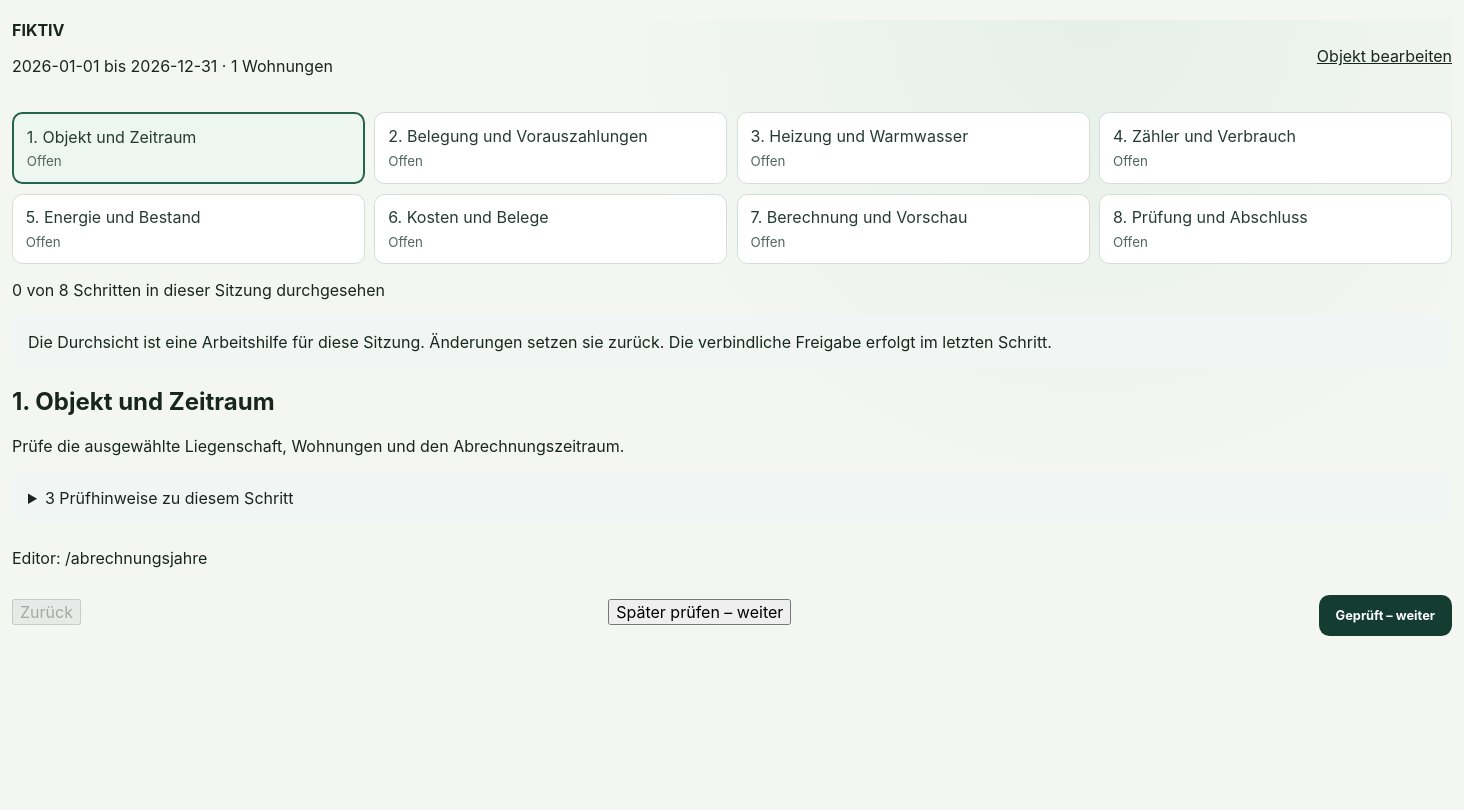
BillingJourney › führt durch acht Schritte und öffnet die passenden Eingaben
Expected: the heading "1. Objekt und Zeitraum" is shown, [12,388,275,416]
Click the button "Geprüft – weiter".
click(1385, 616)  # box [1319,595,1452,636]
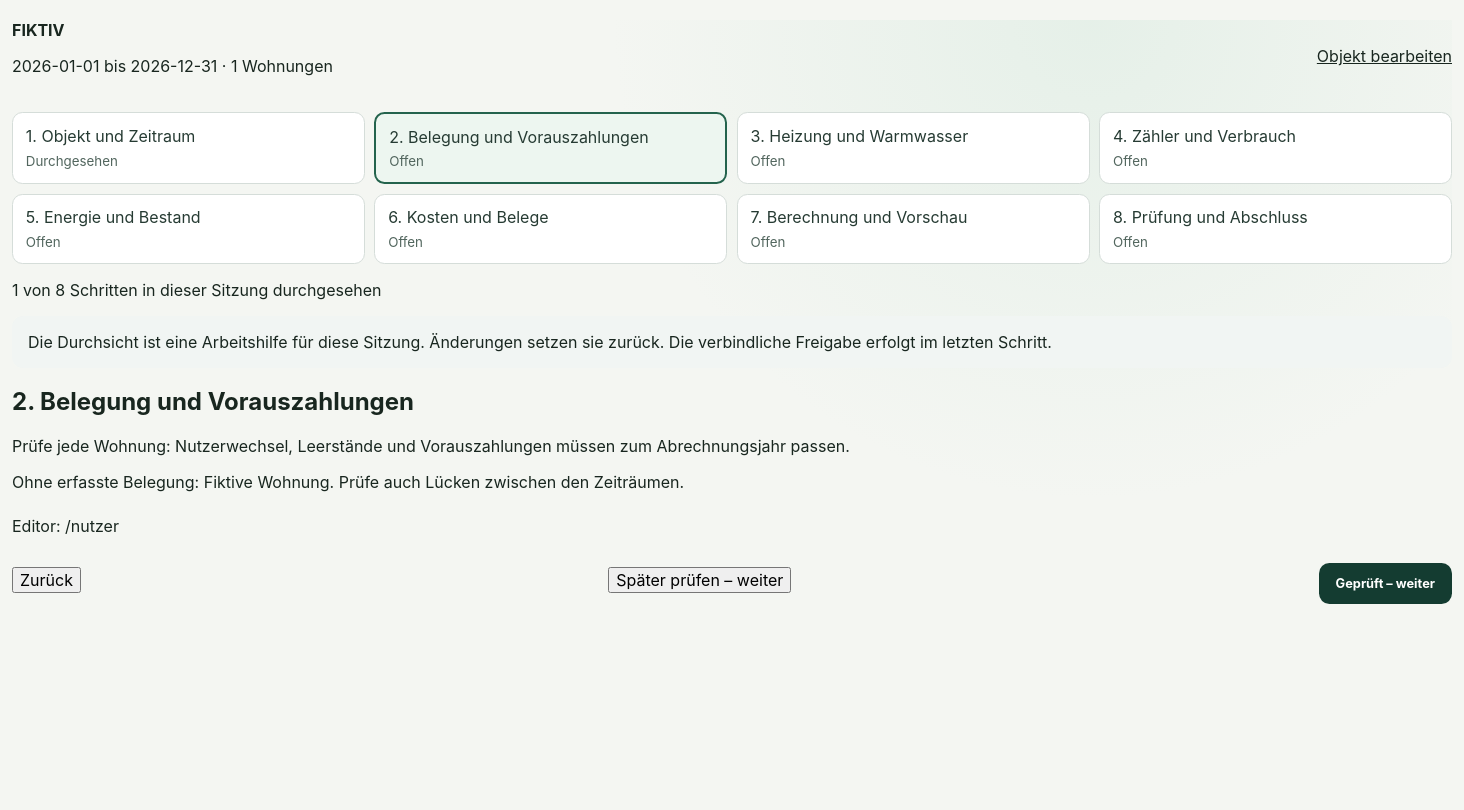
Expected: the text "Editor: /nutzer" is shown, [12,516,119,536]
Expected: the text "1 von 8 Schritten in dieser Sitzung durchgesehen" is shown, [12,280,382,300]
Click the button "4. Zähler und Verbrauch Offen".
click(1276, 148)  # box [1099,112,1452,184]
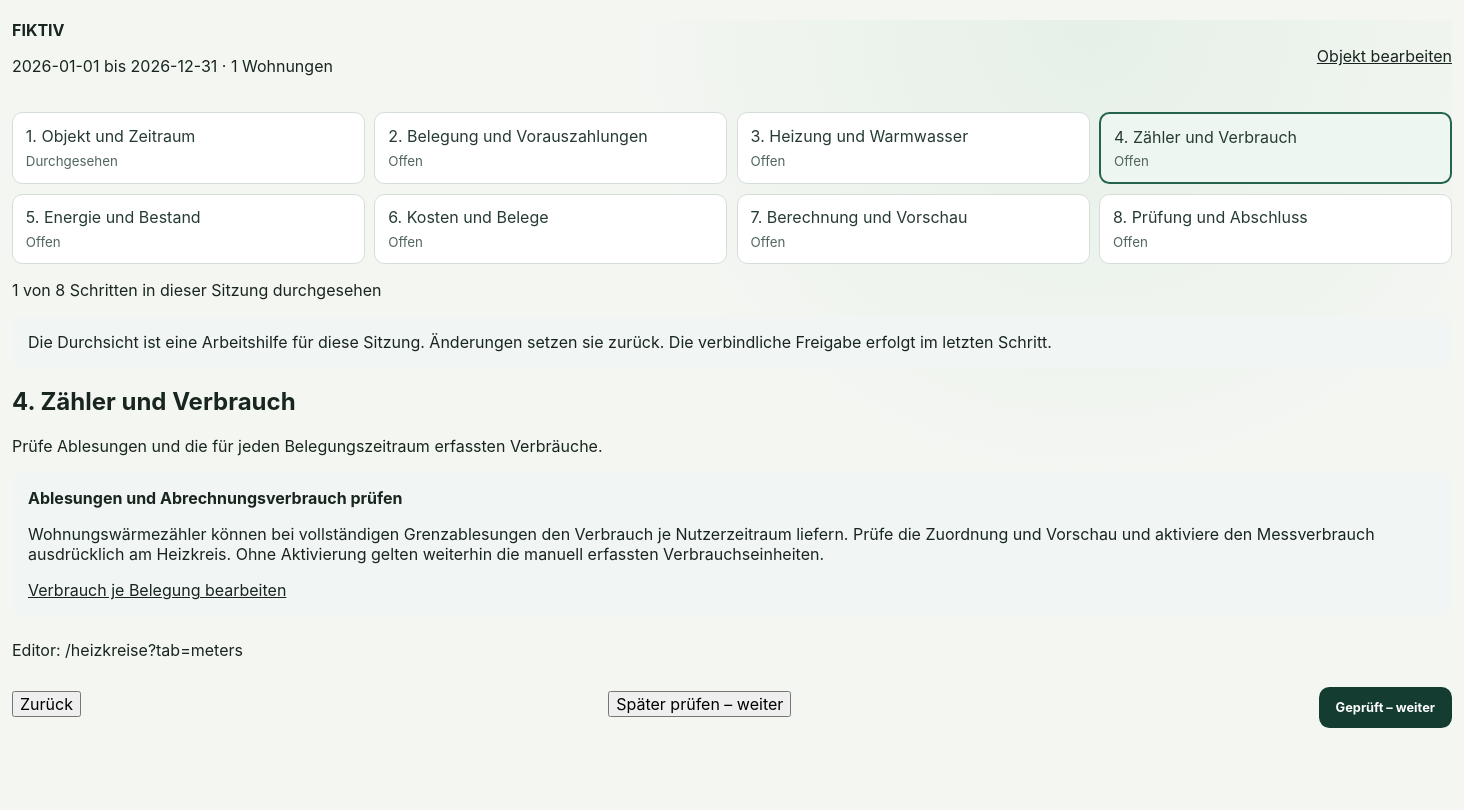
Expected: the text "Editor: /heizkreise?tab=meters" is shown, [12,640,243,660]
Click the button "5. Energie und Bestand Offen".
click(188, 229)  # box [12,194,365,264]
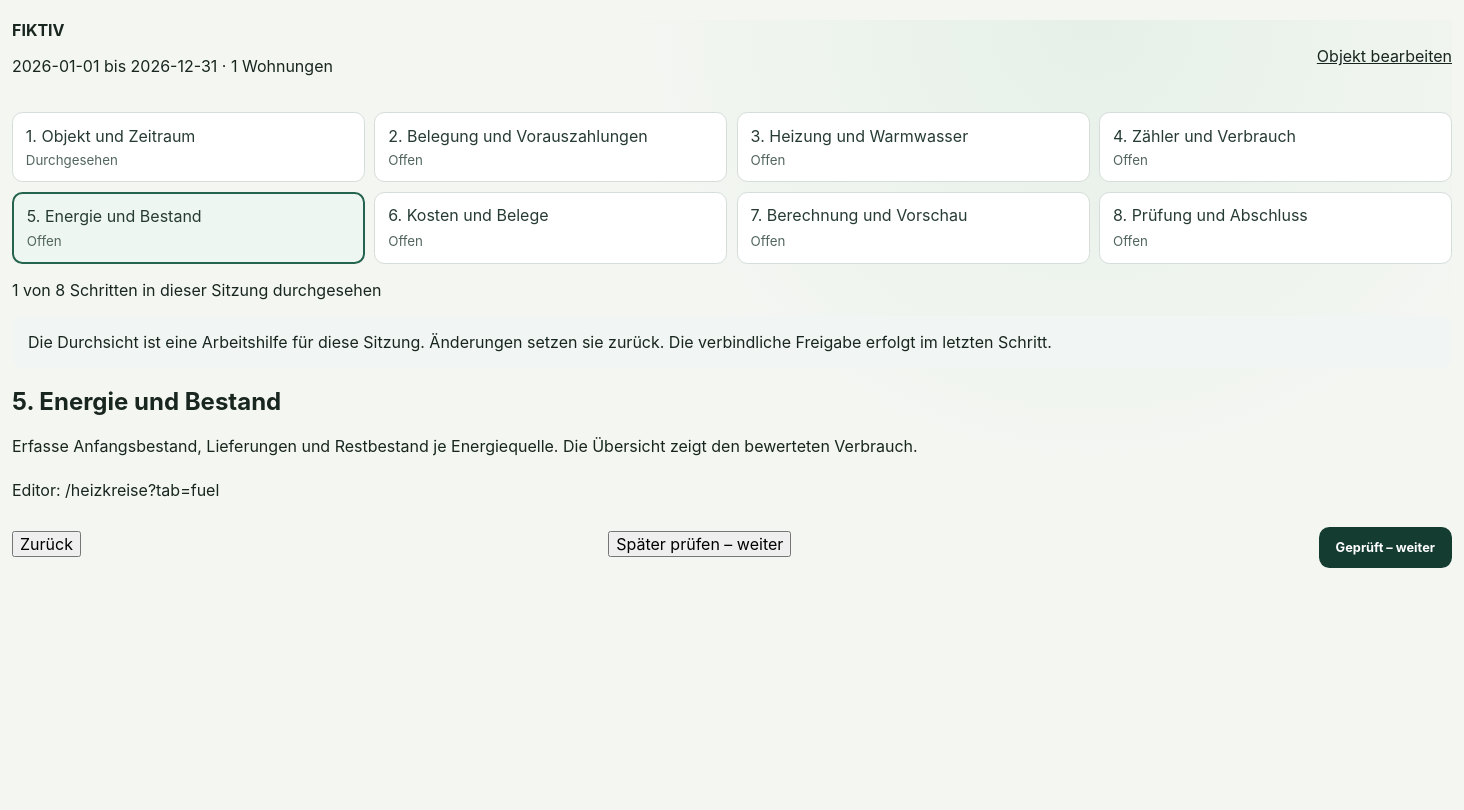
Expected: the text "Editor: /heizkreise?tab=fuel" is shown, [12,480,219,500]
